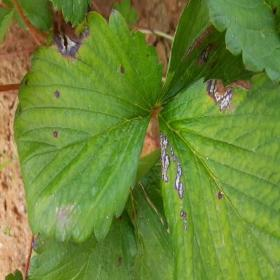Leaf Spot: (12, 8, 163, 246), (156, 73, 279, 279), (27, 147, 173, 279), (155, 0, 279, 109)
